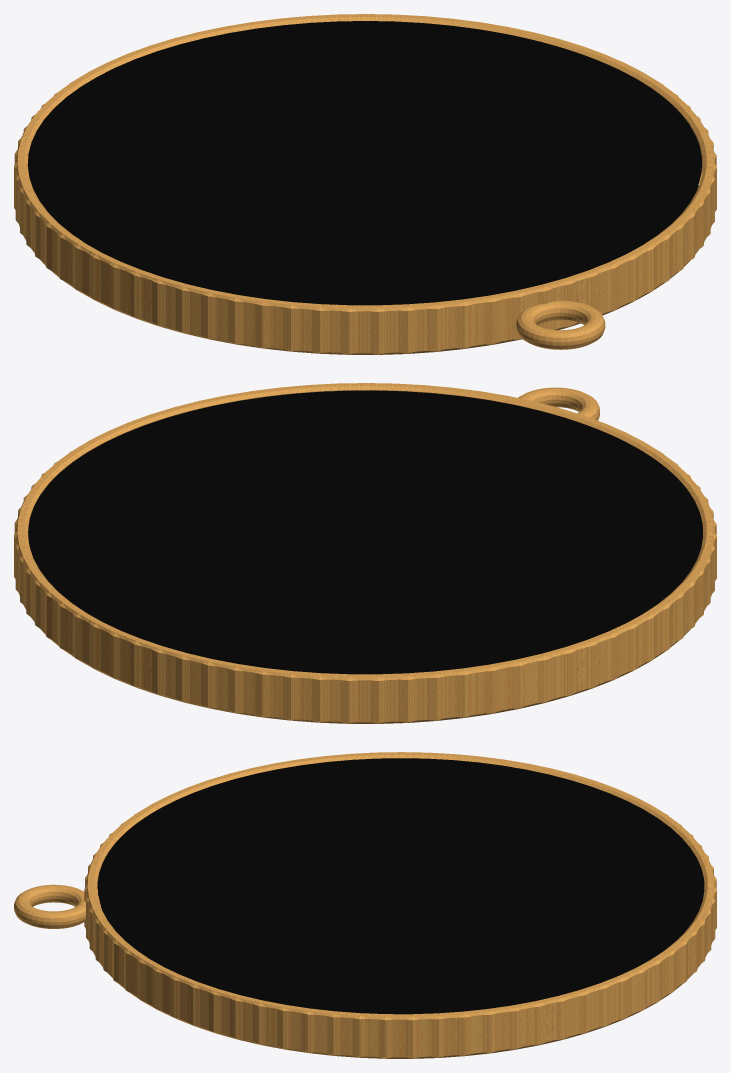
File: TurkeyGold.fbx
3 renders of one model, top to bottom at view 1: azimuth 30°, elevation 25°; view 2: azimuth 150°, elevation 25°; view 3: azimuth 270°, elevation 25°, orthographic. The views are drawn at different scales.
Visible parts, largest first — view 1: CoinInner, CoinOuter; view 2: CoinInner, CoinOuter; view 3: CoinInner, CoinOuter.
Part boxes in pixels (bbox=[...]): CoinInner: bbox=[27, 21, 701, 305]; CoinOuter: bbox=[14, 14, 716, 354]; CoinInner: bbox=[28, 390, 703, 674]; CoinOuter: bbox=[14, 383, 716, 723]; CoinInner: bbox=[97, 758, 704, 1014]; CoinOuter: bbox=[14, 752, 716, 1058].
Size of the model in its own units: 41.39 by 3.04 by 46.
